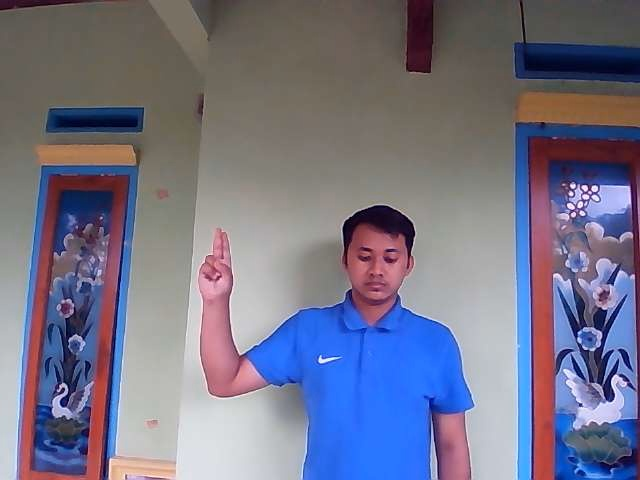U: (196, 226, 235, 300)
